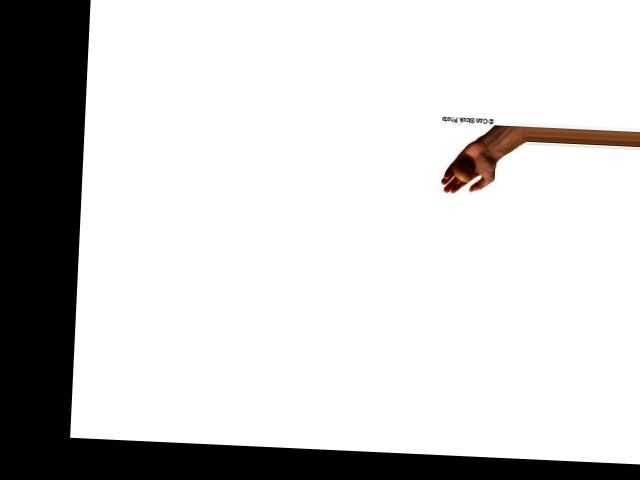egg: (452, 161, 472, 181)
